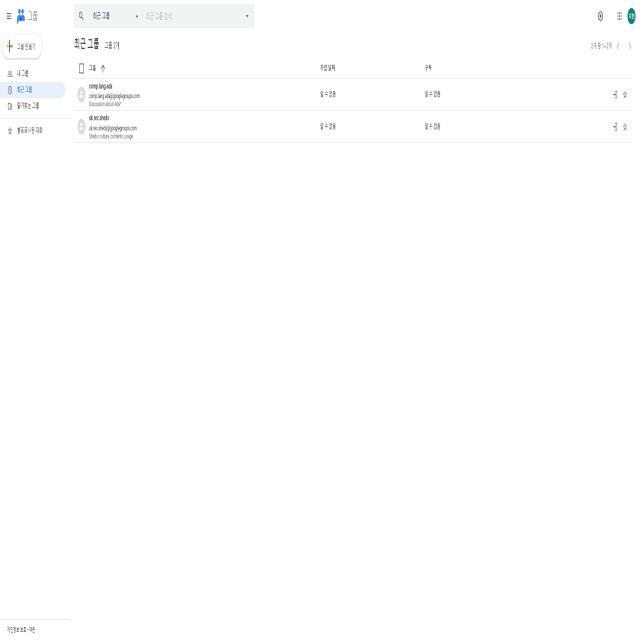menu-bar: (590, 2, 638, 29)
menu-panel: (1, 29, 68, 140)
